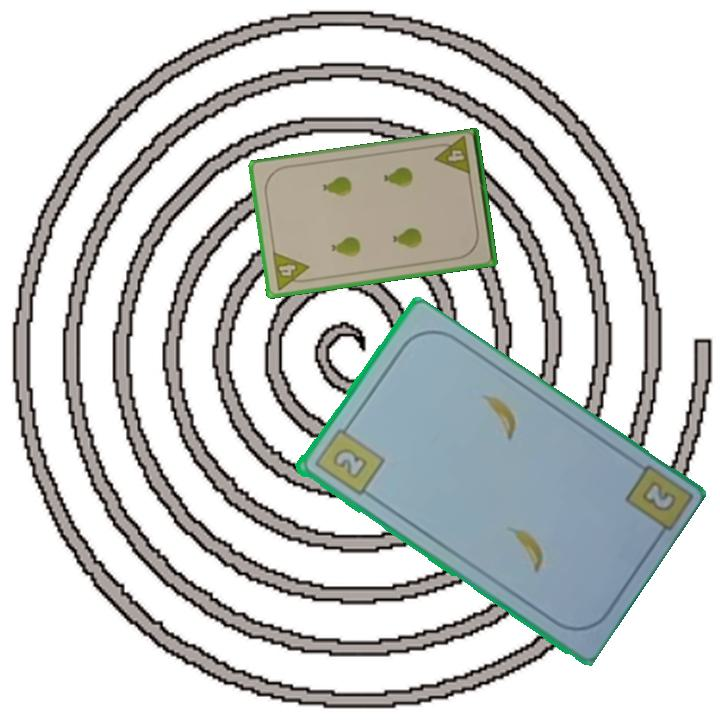2b: (310, 419, 386, 499), (637, 477, 679, 515)
4p: (269, 248, 313, 293), (430, 134, 473, 179)
